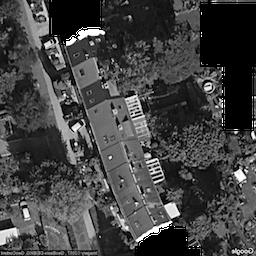roofs: (65, 35, 171, 240)
